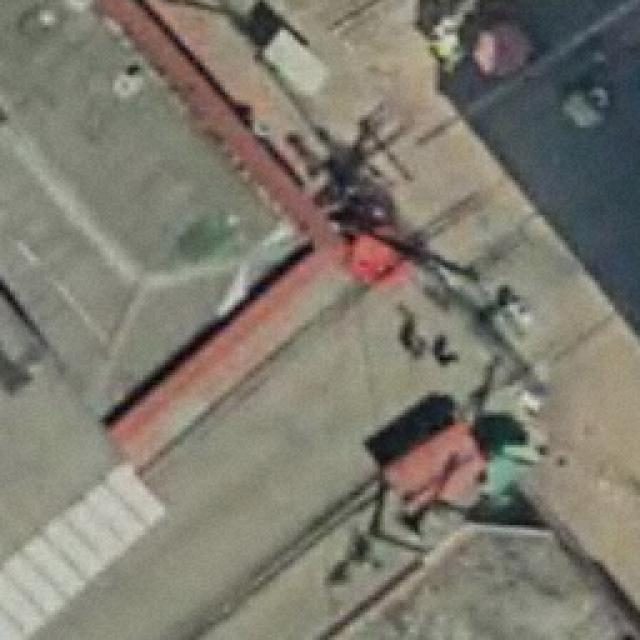vendedor_ambulante: (352, 222, 420, 292), (471, 423, 536, 493), (472, 13, 537, 78)
